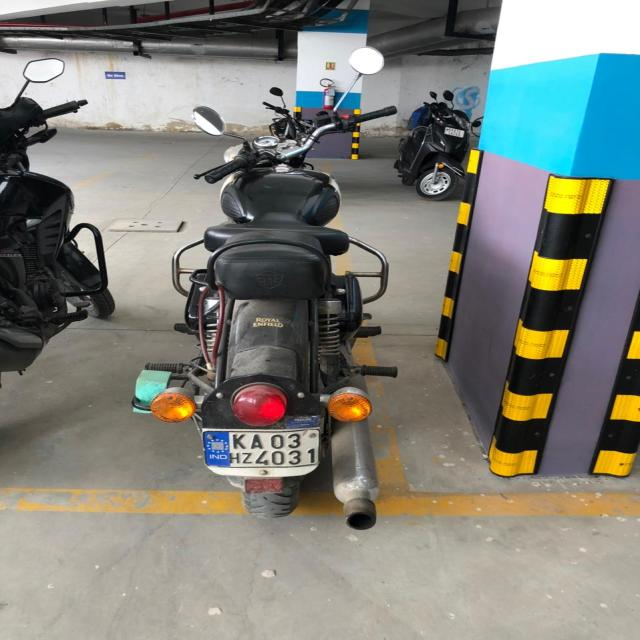license_plate: (201, 428, 321, 474)
